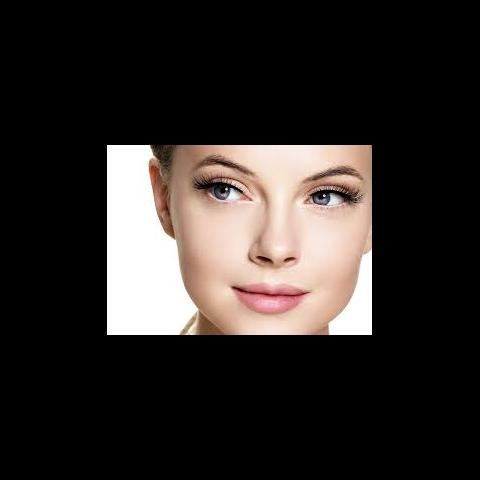opened: (188, 154, 365, 222)
